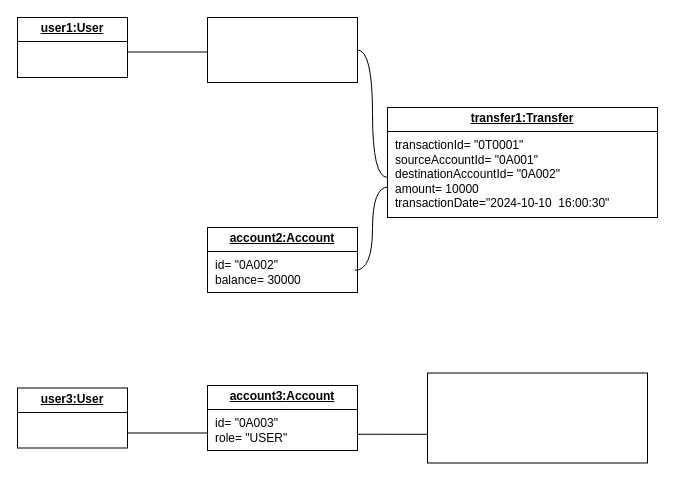
Some shapes in this 675 by 481 pixel diagram are drawn without their labels. Here are the shapes that lost their labels. From the top down, the centre of each, then its label:
point (282, 49): account1: Account id= "0A001" balance= 50000
point (537, 417): card1:Card cardId= "0C0008" isDisabled= False cardDisablementType= "NONE"
